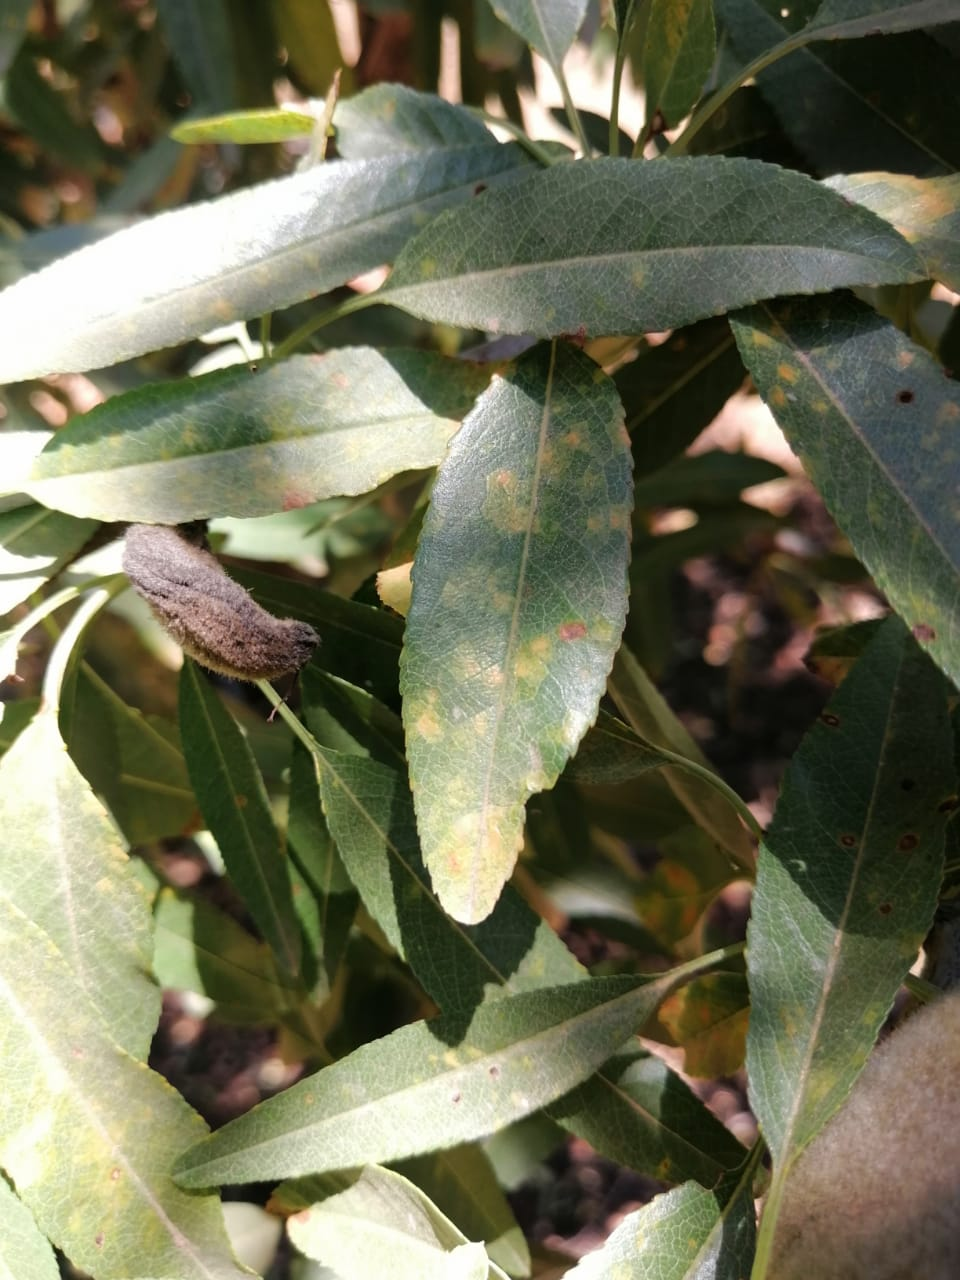polystigma: (398, 341, 641, 925), (169, 973, 676, 1195), (378, 156, 928, 340), (3, 888, 255, 1280), (22, 333, 507, 522), (1, 706, 159, 1065)
